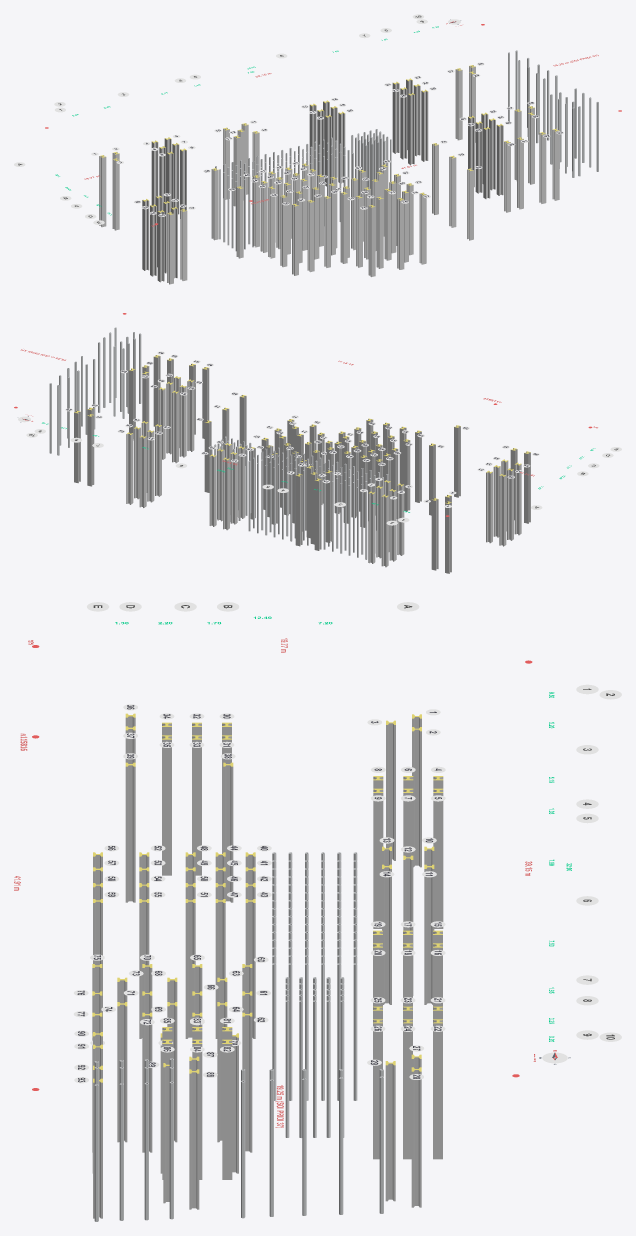
3 views of the same model, one above another, from view 1: azimuth 30°, elevation 25°; view 2: azimuth 150°, elevation 25°; view 3: azimuth 270°, elevation 25° (orthographic). The views are drawn at different scales.
Parts seen in each view (by area): view 1: Pile_57, Pile_38, Pile_39, Pile_79, Pile_59, Pile_73, Pile_75, Pile_37, Pile_26, Pile_71, Pile_85, Pile_86 (+43 smaller); view 2: Pile_2, Pile_11, Pile_10, Pile_16, Pile_21, Pile_22, Pile_5, Pile_30, Pile_4, Pile_27, Pile_13, Pile_23 (+40 smaller); view 3: Pile_88, Pile_39, Pile_29, Pile_82, Pile_28, Pile_22, Pile_5, Pile_35, Pile_38, Pile_11, Pile_3, Pile_62 (+17 smaller).
Part boxes in pixels (x1,y1,x2,y2): Pile_57: (307,200,314,272); Pile_38: (211,168,218,240); Pile_39: (236,186,243,258); Pile_79: (449,155,456,227); Pile_59: (340,192,347,263); Pile_73: (376,196,383,268); Pile_75: (368,205,375,276); Pile_37: (180,209,187,280); Pile_26: (421,89,428,161); Pile_71: (384,188,391,260); Pile_85: (483,127,490,199); Pile_86: (496,124,503,195); Pile_2: (431,498,438,570); Pile_11: (295,473,302,546); Pile_10: (314,478,321,550); Pile_16: (209,454,216,526); Pile_21: (139,435,146,507); Pile_22: (126,432,133,504); Pile_5: (368,491,375,563); Pile_30: (499,474,506,546); Pile_4: (381,494,388,567); Pile_27: (87,414,94,486); Pile_13: (325,470,332,542); Pile_23: (147,430,154,502); Pile_88: (189,1069,199,1209); Pile_39: (125,762,135,902); Pile_29: (385,1061,395,1201); Pile_82: (222,1039,232,1179); Pile_28: (411,1067,421,1207); Pile_22: (433,1019,442,1159); Pile_5: (433,788,443,928); Pile_35: (162,735,171,875); Pile_38: (223,762,233,902); Pile_11: (424,864,434,1004); Pile_3: (386,720,395,860); Pile_62: (242,1012,252,1152).
Bounding box in the file's own units: 49.8 × 10.35 × 24.31.
